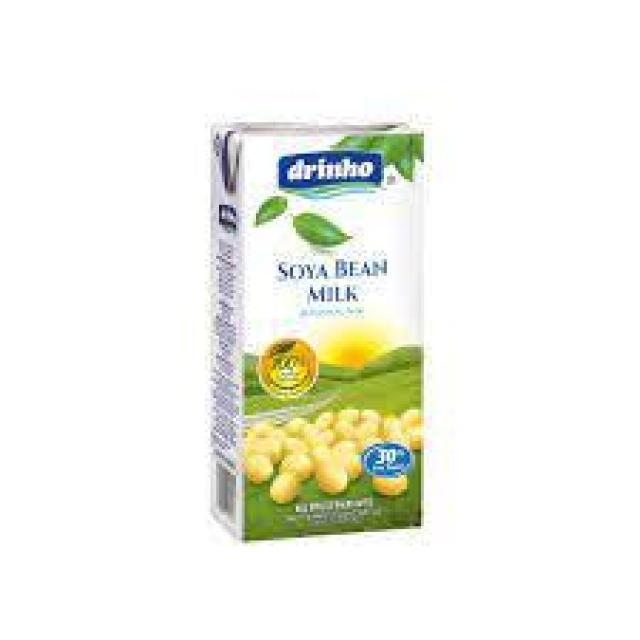drink carton: (213, 111, 430, 545)
